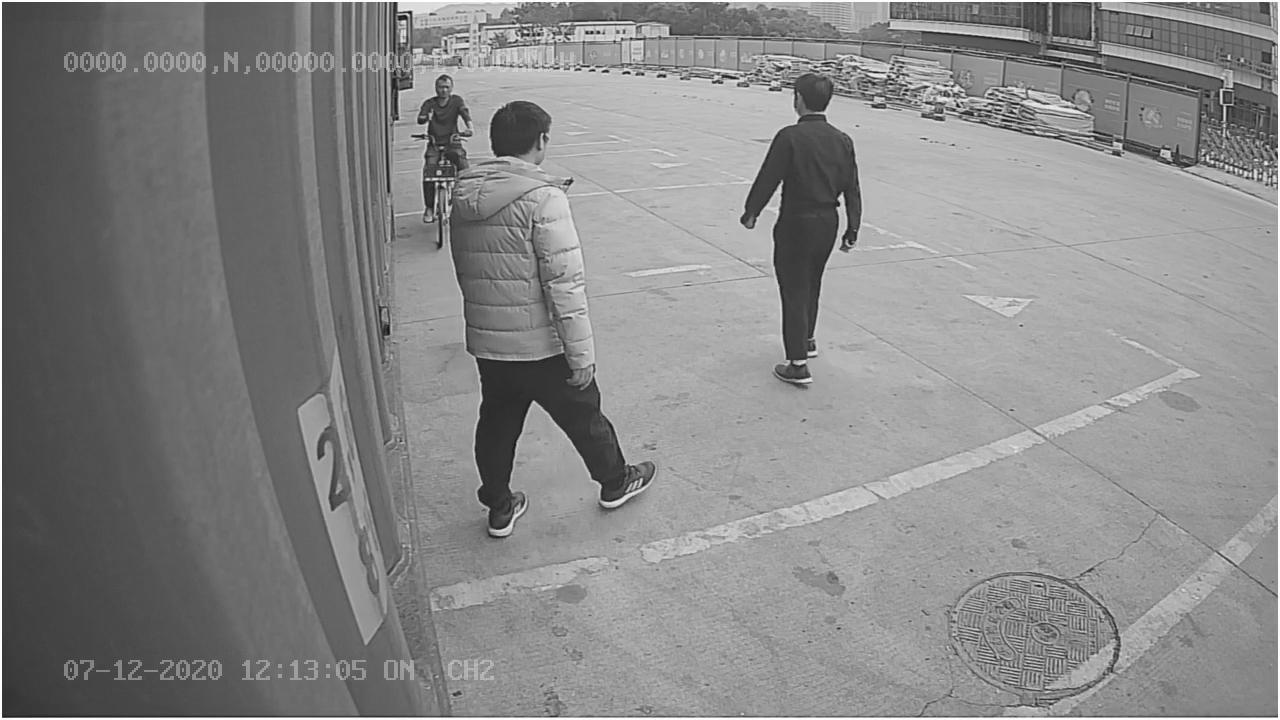person: (741, 71, 870, 390)
